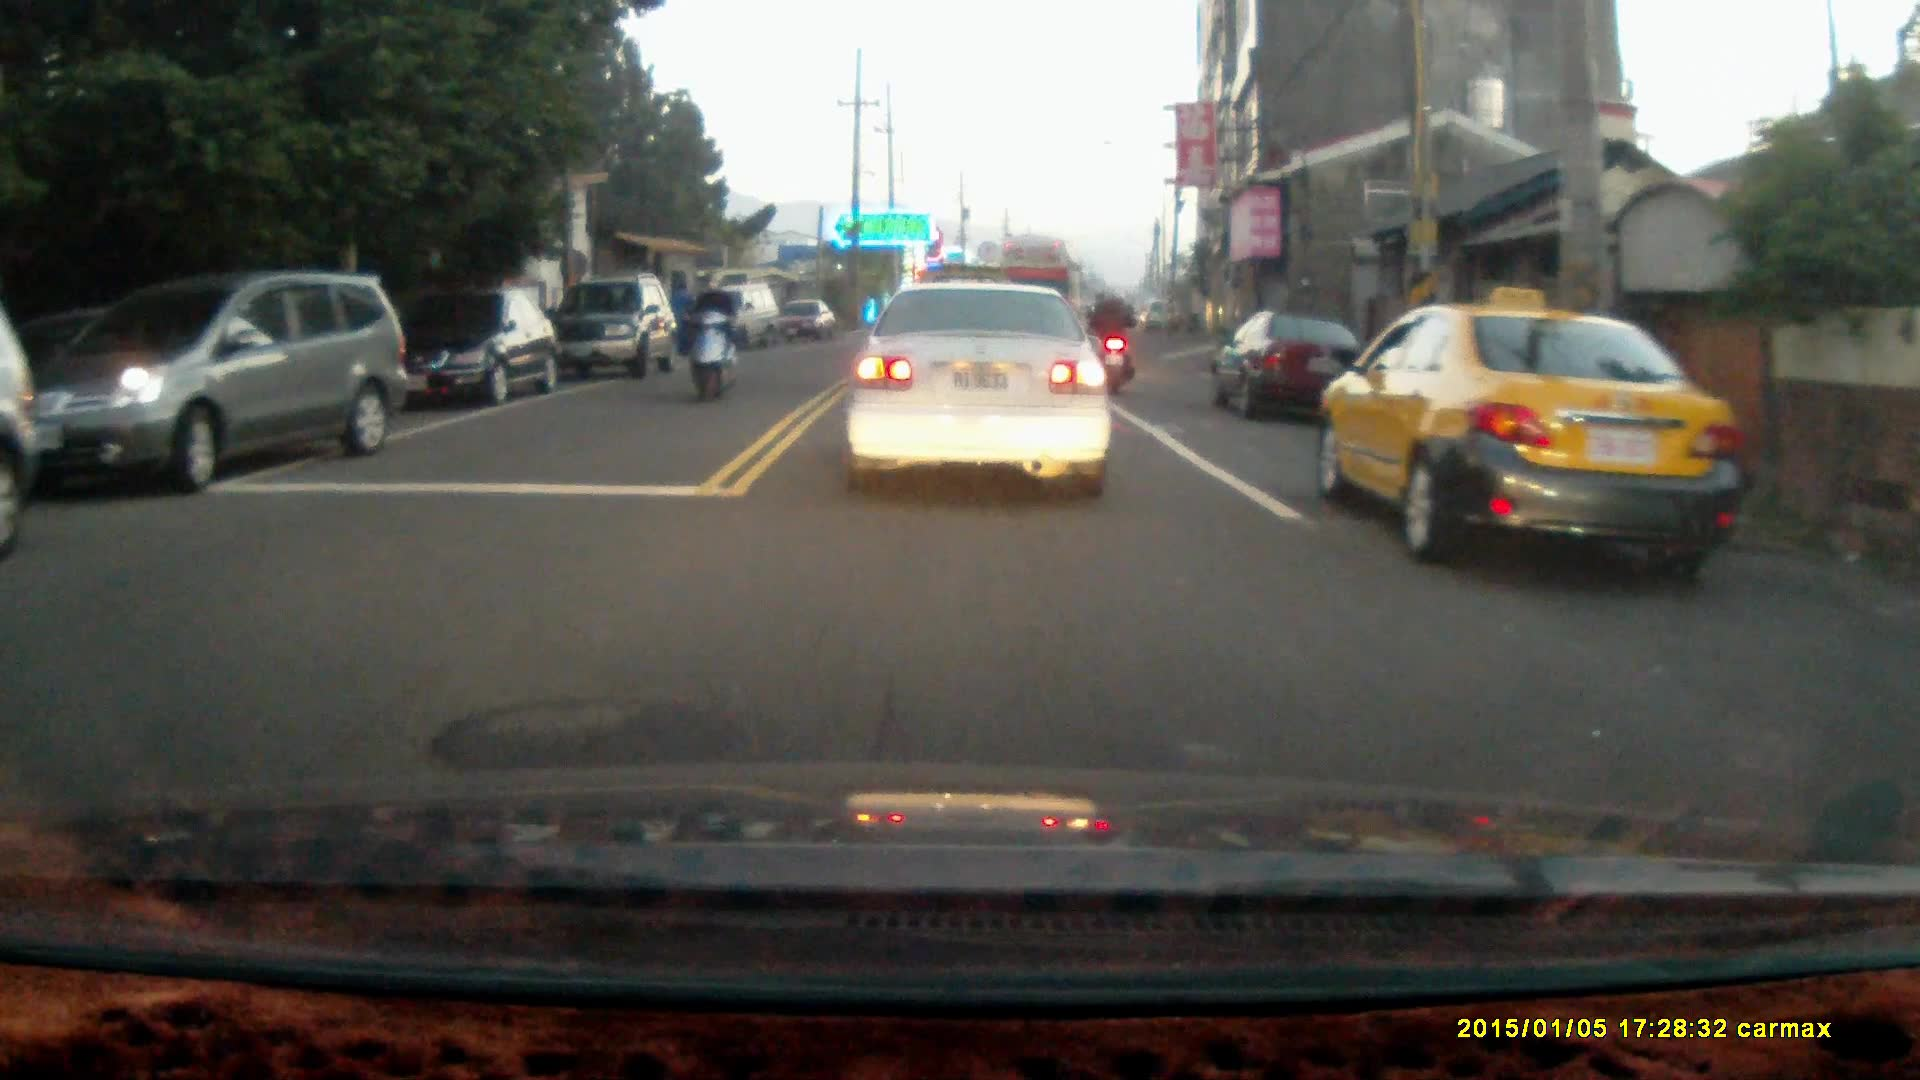pedestrian: (669, 278, 695, 360)
rider: (682, 268, 739, 405), (1083, 282, 1140, 403)
vehicle: (1310, 304, 1745, 579), (1, 270, 410, 490), (845, 283, 1120, 507), (385, 285, 558, 406), (1217, 310, 1371, 417), (548, 272, 682, 379), (1, 309, 38, 562), (687, 286, 784, 358), (771, 298, 839, 343)
